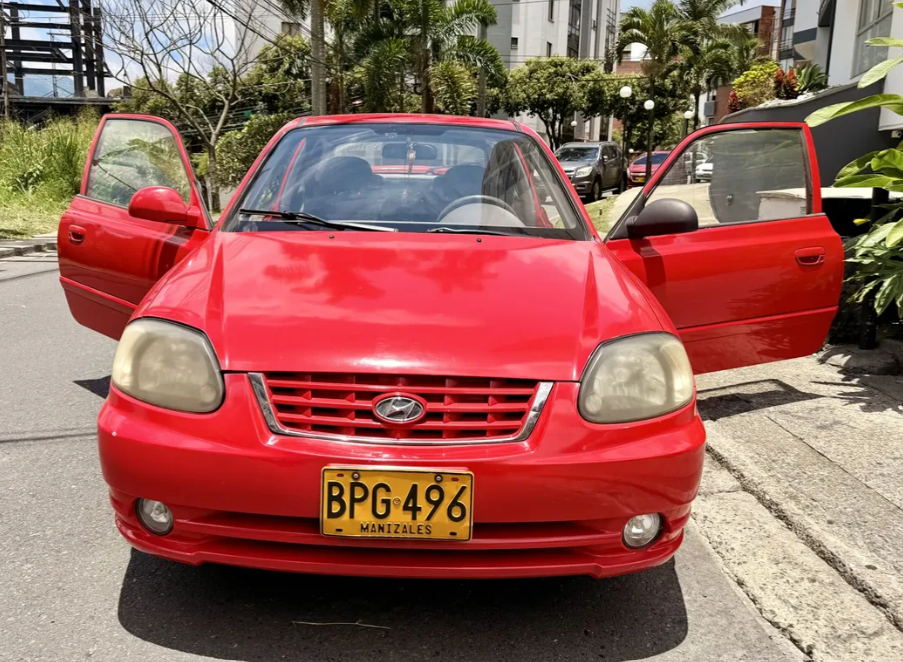placa: (320, 466, 475, 544)
